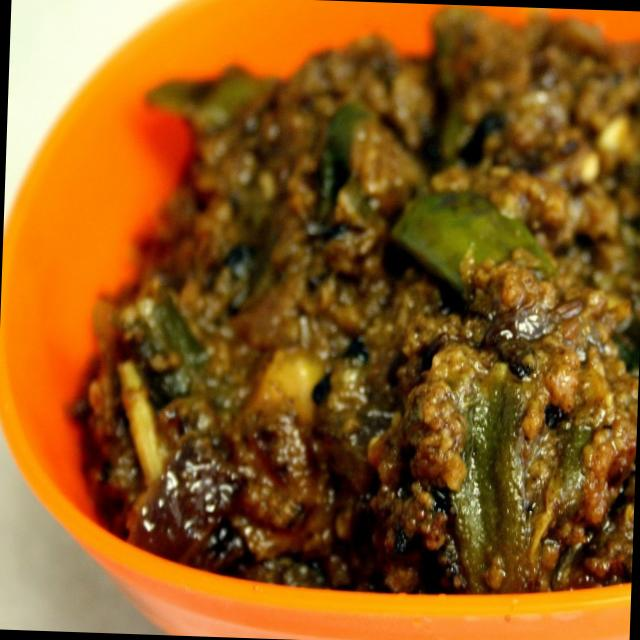BhindiMasala: (60, 0, 640, 597)
